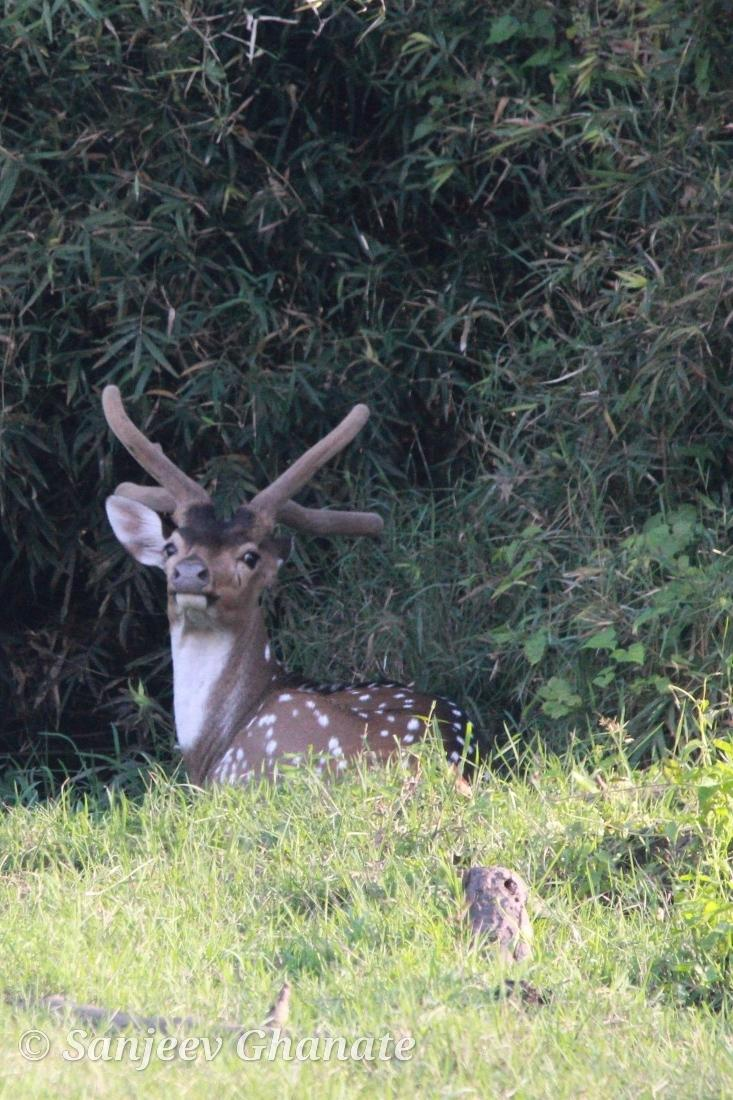Deer: (101, 386, 479, 794)
